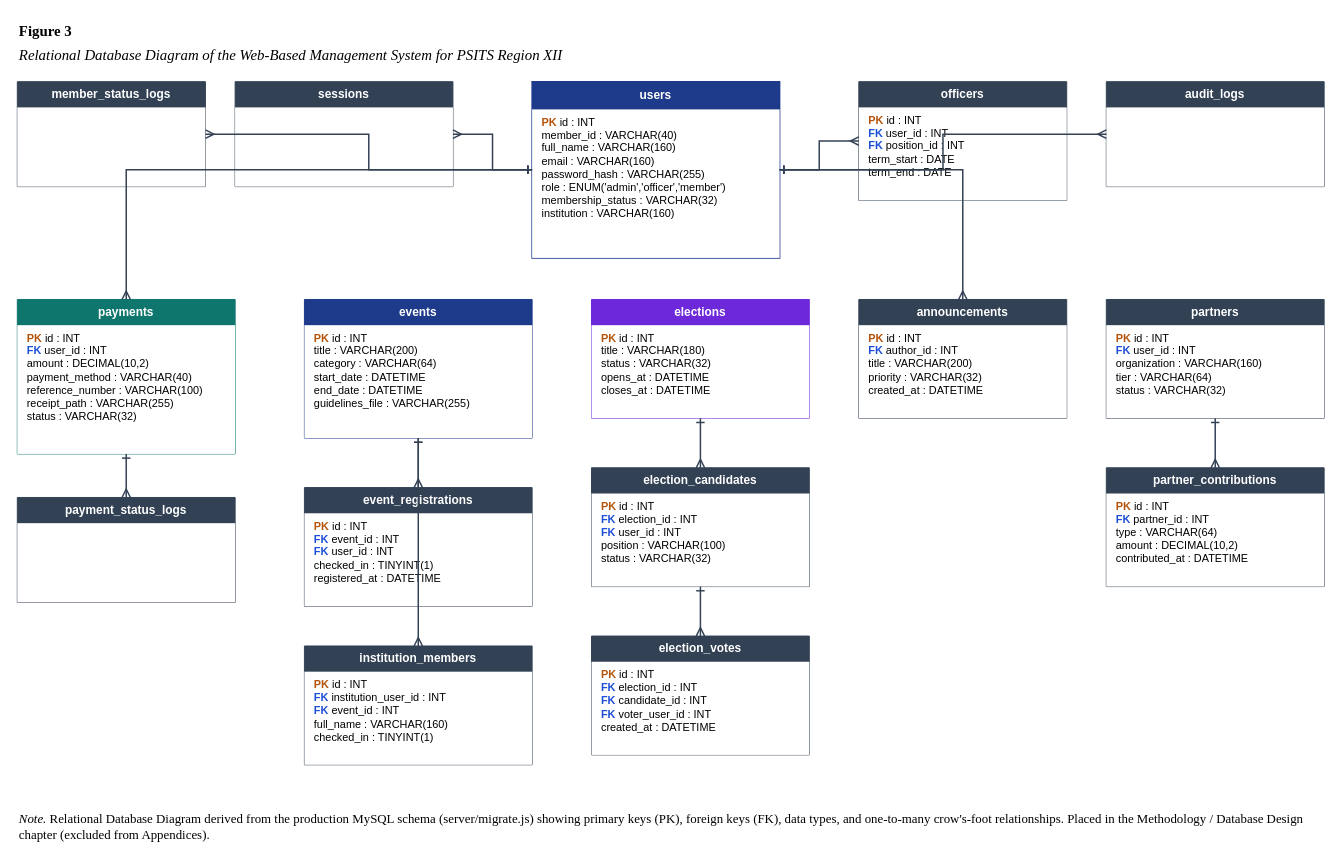
Image size: 1341x865. Some labels were removed from this diagram. Here are the shapes that lost their labels. From the top down, the centre of each, then its label:
At (x=111, y=146): "PK id : INT FK user_id : INT new_status : VARCHAR(32) changed_by : INT".
At (x=343, y=146): "PK id : INT FK user_id : INT token : VARCHAR(128) expires_at : DATETIME".
At (x=1215, y=146): "PK id : INT FK actor_user_id : INT action : VARCHAR(120) created_at : DATETIME".
At (x=126, y=562): "PK id : INT FK payment_id : INT new_status : VARCHAR(32) remarks : TEXT".
